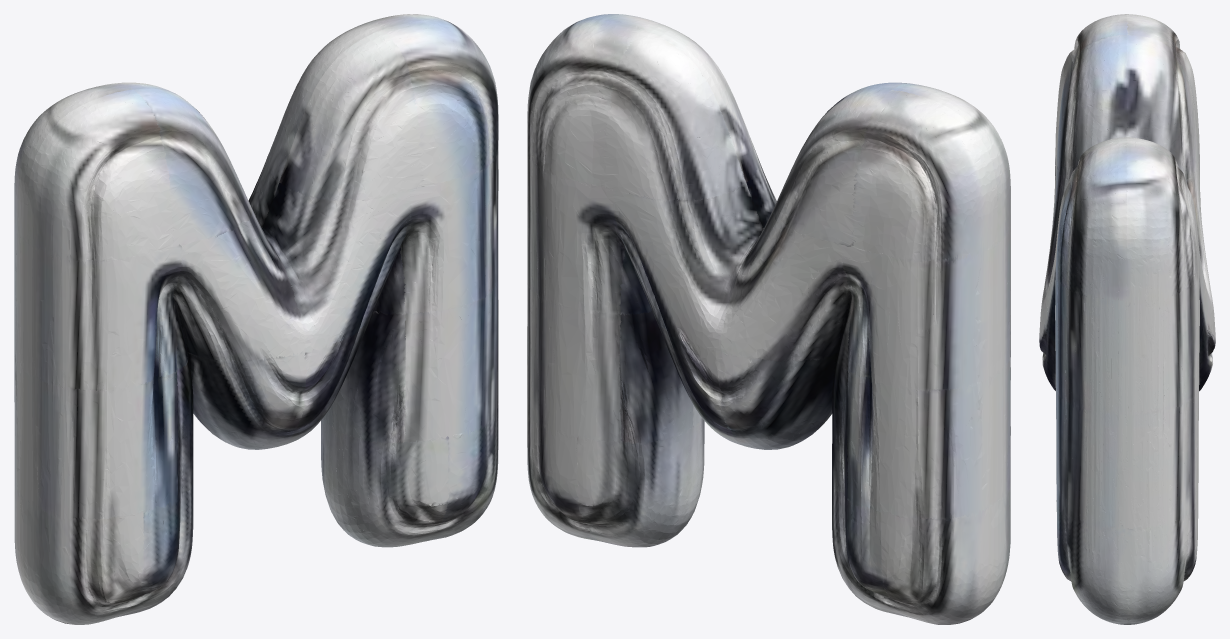
File: letter-m.glb
3 views of the same model, side by side, from view 1: azimuth 30°, elevation 25°; view 2: azimuth 150°, elevation 25°; view 3: azimuth 270°, elevation 25° (orthographic). The views are drawn at different scales.
Visible parts, largest first — view 1: tmp0w1itujr.obj; view 2: tmp0w1itujr.obj; view 3: tmp0w1itujr.obj.
Boxes of the visible parts, x1,y1,x2,y2 form: tmp0w1itujr.obj: [14, 14, 498, 624]; tmp0w1itujr.obj: [527, 14, 1010, 624]; tmp0w1itujr.obj: [1039, 14, 1215, 624].
Bounding box in the file's own units: 1.42 × 1.54 × 0.5381.
1 material, 1 textured.
